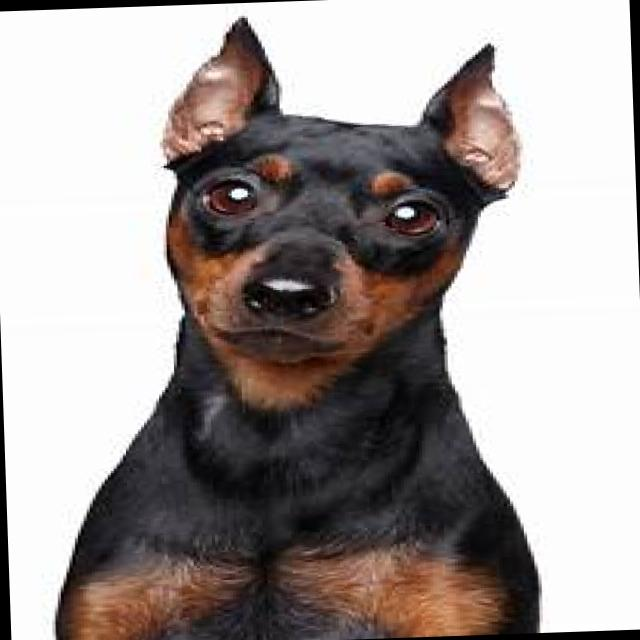animal: (34, 2, 543, 640)
